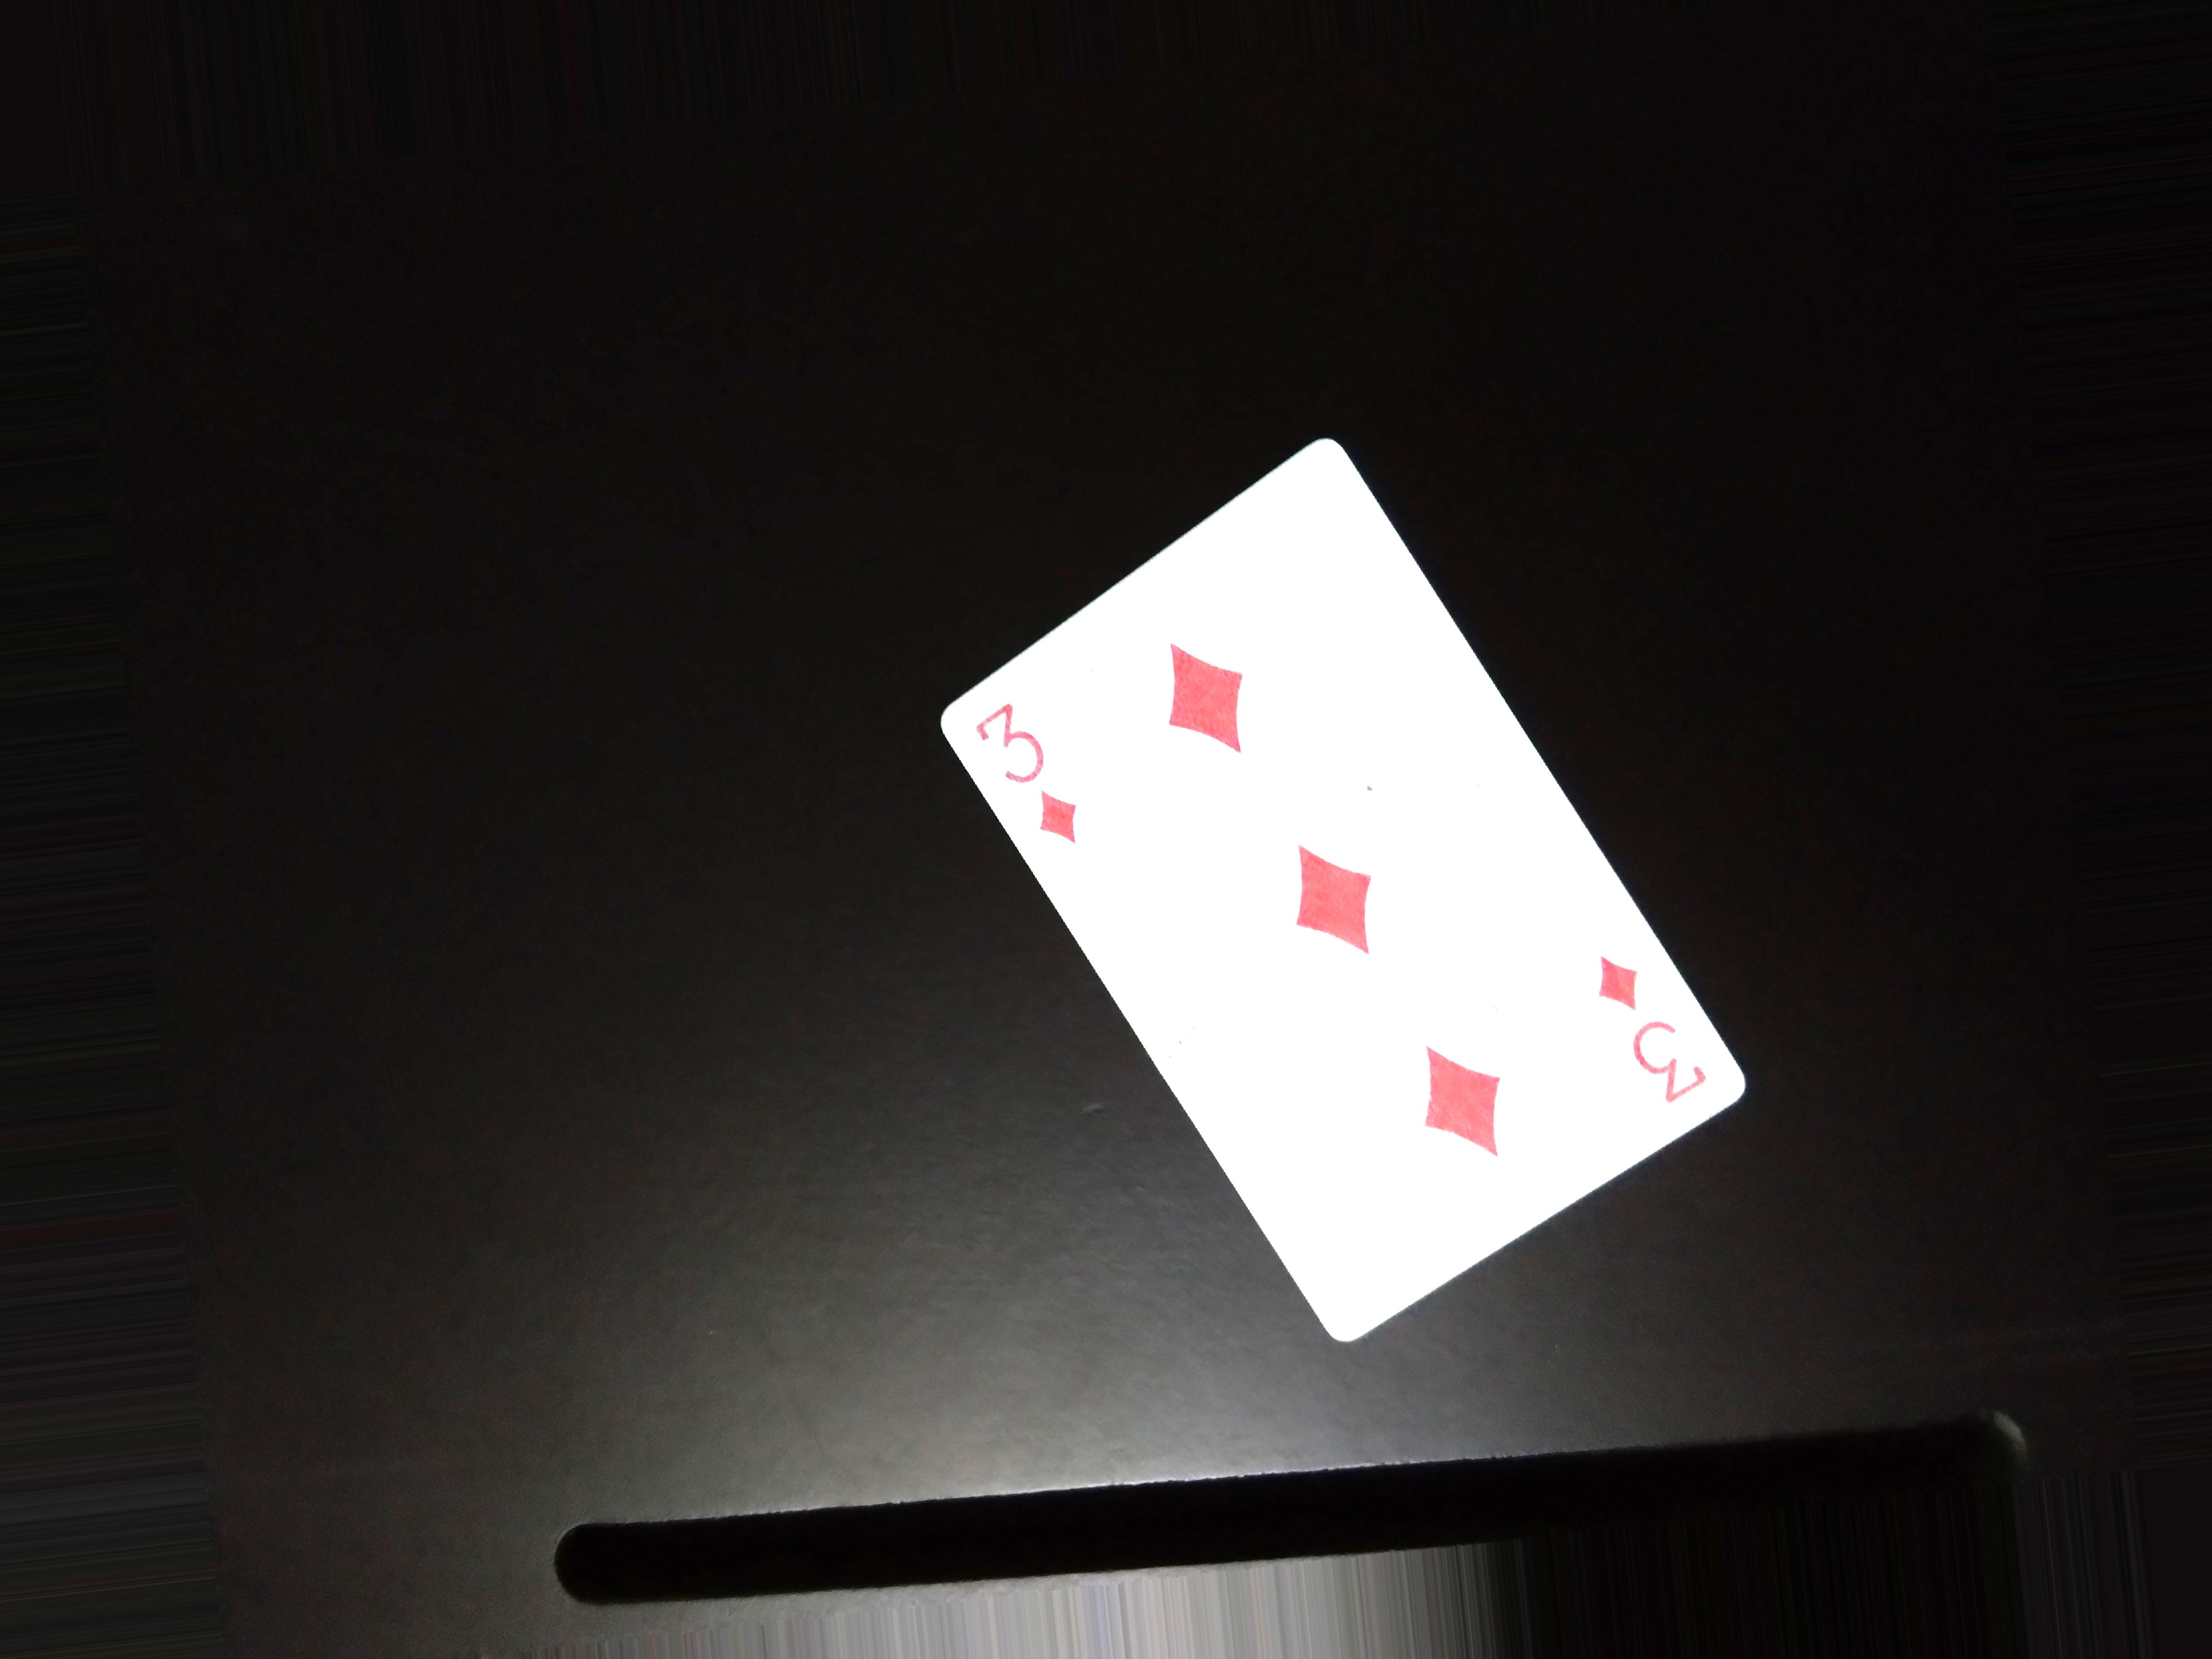3D: (1568, 955, 1740, 1101)
